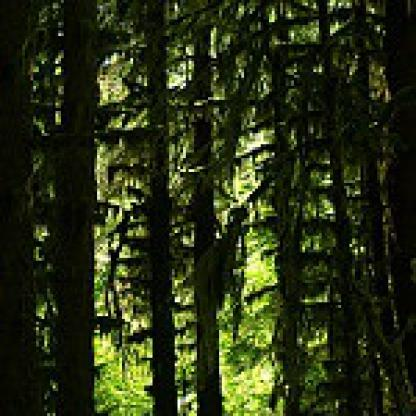trunk: (47, 0, 108, 413), (313, 0, 366, 413), (266, 17, 311, 413), (141, 0, 183, 413), (0, 0, 42, 413), (188, 0, 228, 413), (380, 0, 413, 391)
